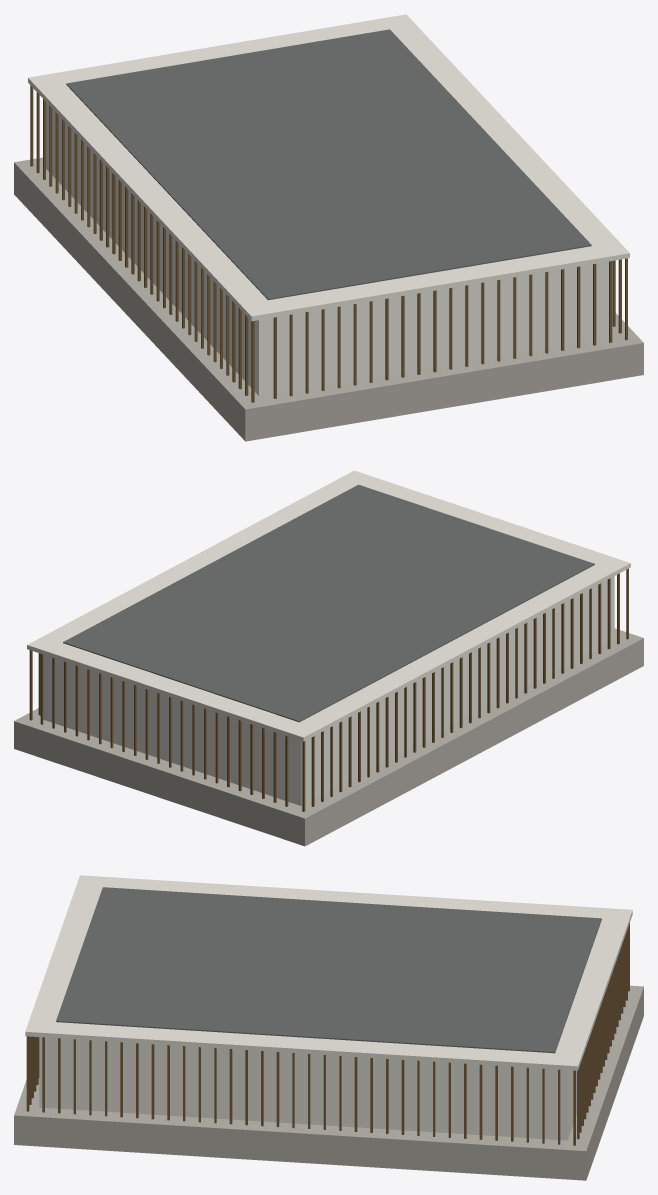
The model's file is kennedy-center_lod0.glb.
3 renders of one model, top to bottom at view 1: azimuth 30°, elevation 25°; view 2: azimuth 150°, elevation 25°; view 3: azimuth 270°, elevation 25°, orthographic. The views are drawn at different scales.
Parts seen in each view (by area): view 1: kennedy-center_lod0_roof, kennedy-center_lod0_marble, kennedy-center_lod0_granite, kennedy-center_lod0_bronze; view 2: kennedy-center_lod0_roof, kennedy-center_lod0_marble, kennedy-center_lod0_granite, kennedy-center_lod0_bronze; view 3: kennedy-center_lod0_roof, kennedy-center_lod0_marble, kennedy-center_lod0_granite, kennedy-center_lod0_bronze.
Boxes of the visible parts, x1=… form: kennedy-center_lod0_roof: x1=66, y1=29, x2=591, y2=300; kennedy-center_lod0_marble: x1=28, y1=14, x2=629, y2=396; kennedy-center_lod0_granite: x1=14, y1=157, x2=643, y2=441; kennedy-center_lod0_bronze: x1=30, y1=85, x2=627, y2=402; kennedy-center_lod0_roof: x1=63, y1=484, x2=594, y2=722; kennedy-center_lod0_marble: x1=27, y1=470, x2=630, y2=806; kennedy-center_lod0_granite: x1=14, y1=628, x2=643, y2=846; kennedy-center_lod0_bronze: x1=29, y1=568, x2=628, y2=811; kennedy-center_lod0_roof: x1=56, y1=887, x2=601, y2=1053; kennedy-center_lod0_marble: x1=25, y1=875, x2=632, y2=1140; kennedy-center_lod0_granite: x1=14, y1=985, x2=643, y2=1180; kennedy-center_lod0_bronze: x1=26, y1=923, x2=629, y2=1145.
Bounding box in the file's own units: 192 × 49.54 × 255.
